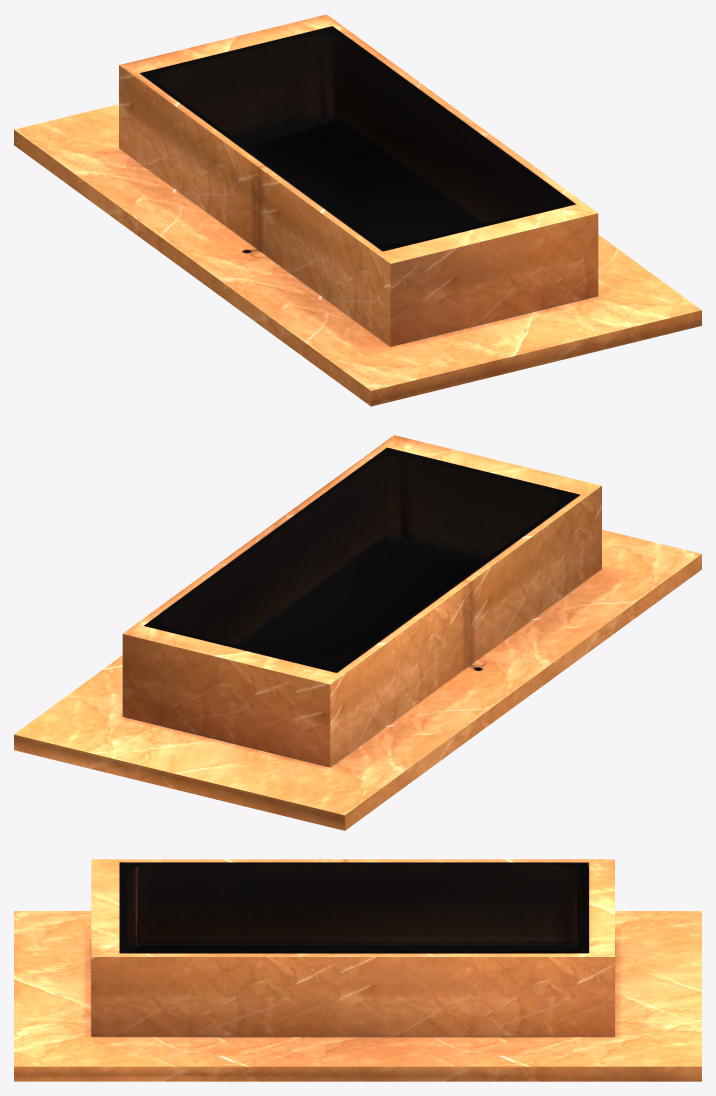
File: Armano_Brown.glb
The picture shows the model from 3 angles, top to bottom: view 1: azimuth 30°, elevation 25°; view 2: azimuth 150°, elevation 25°; view 3: azimuth 270°, elevation 25°; orthographic projection. The views are drawn at different scales.
Visible parts, largest first — view 1: Armano_Brown; view 2: Armano_Brown; view 3: Armano_Brown.
Boxes of the visible parts, x1=… form: Armano_Brown: x1=14, y1=14, x2=701, y2=406; Armano_Brown: x1=14, y1=435, x2=701, y2=830; Armano_Brown: x1=14, y1=859, x2=701, y2=1081.
Size of the model in its own units: 1.57 by 0.5265 by 2.94.
1 material, 1 textured.
